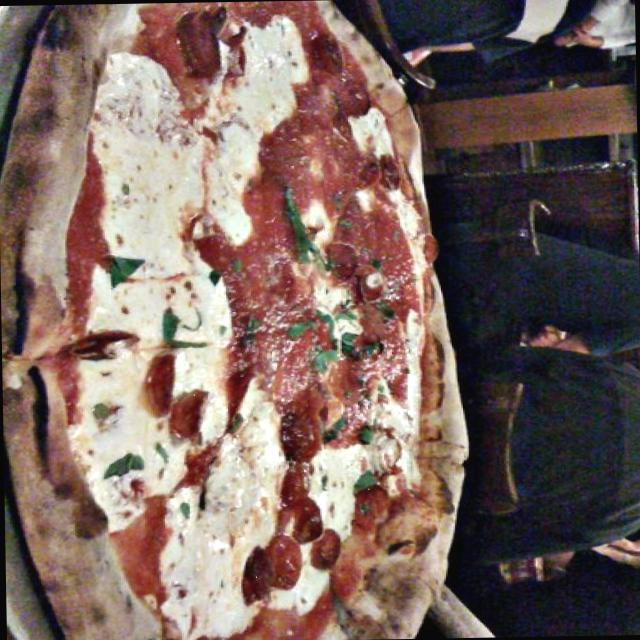basil: (272, 188, 323, 268), (158, 311, 220, 355), (334, 459, 389, 503), (233, 318, 315, 346), (313, 326, 362, 367), (94, 450, 153, 484), (105, 254, 144, 288)
cheese: (104, 140, 200, 256), (156, 529, 242, 626), (96, 66, 174, 138), (94, 290, 176, 324), (218, 470, 266, 526), (252, 46, 290, 104)
pepperoni: (229, 502, 348, 604), (132, 355, 220, 444), (256, 407, 326, 507), (168, 8, 250, 81), (314, 238, 394, 305)
pizza: (2, 0, 467, 640)
